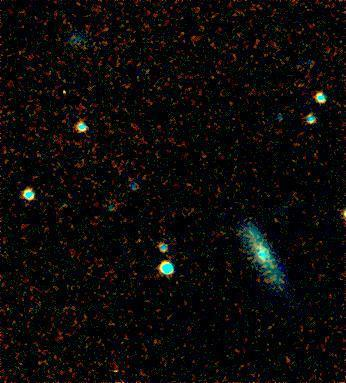star: (51, 73, 81, 103)
